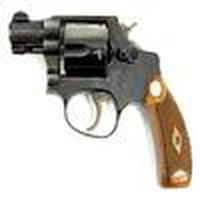gun: (2, 5, 196, 200)
